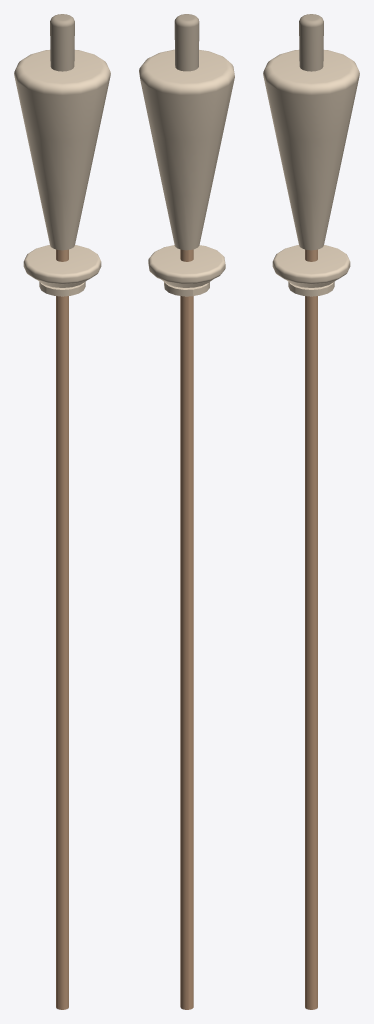
Rendered from Assen 4.fbx.
3 renders of one model, left to right at view 1: azimuth 90°, elevation 25°; view 2: azimuth 150°, elevation 25°; view 3: azimuth 270°, elevation 25°, orthographic.
Visible parts, largest first — view 1: Cylinder.006; view 2: Cylinder.006; view 3: Cylinder.006.
Boxes of the visible parts, bbox=[...] form: Cylinder.006: bbox=[14, 14, 110, 1009]; Cylinder.006: bbox=[139, 14, 234, 1009]; Cylinder.006: bbox=[263, 14, 359, 1009].
Bounding box in the file's own units: 73.73 × 832 × 73.73.
